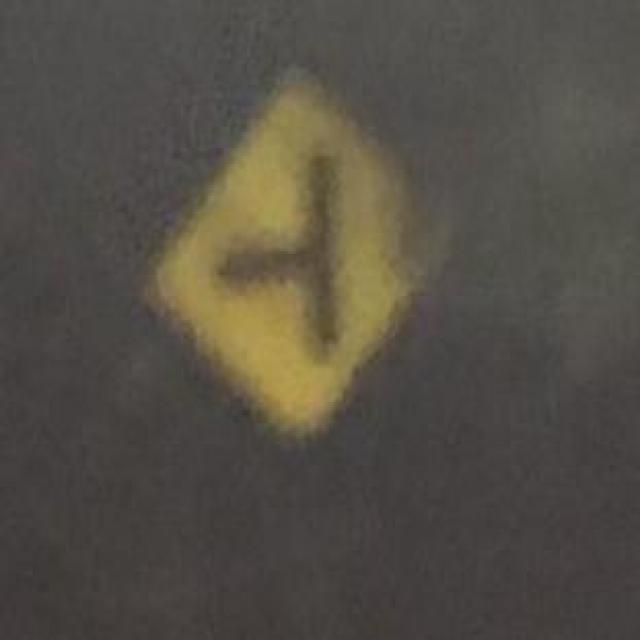traffic sign: (144, 77, 404, 437)
